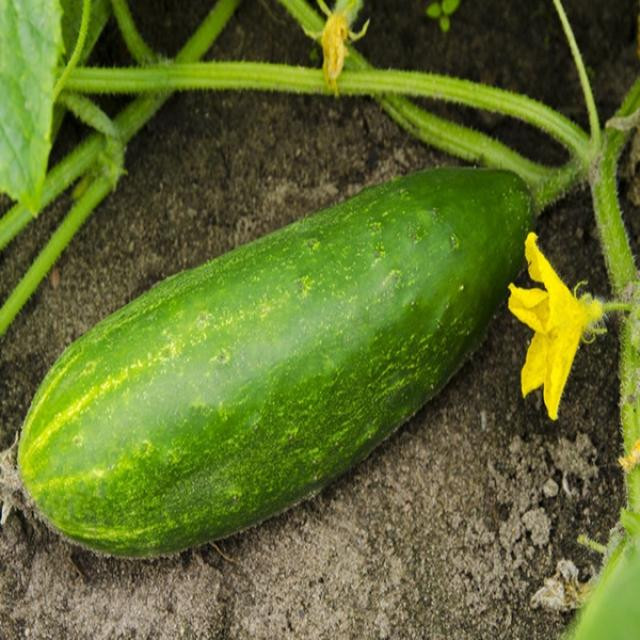cucumber: (16, 168, 534, 560)
